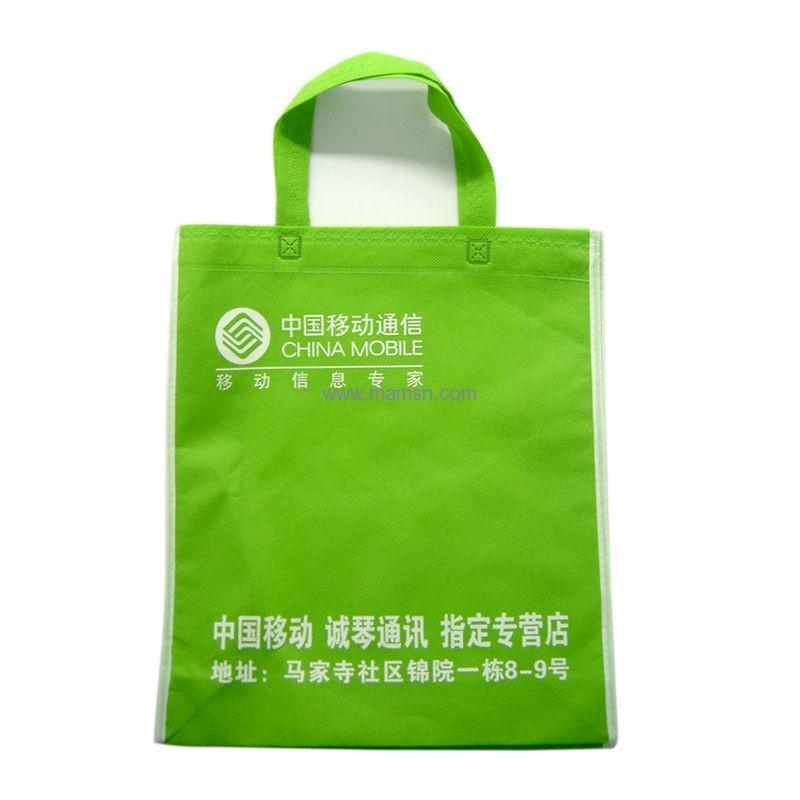flexible: (159, 55, 621, 751)
